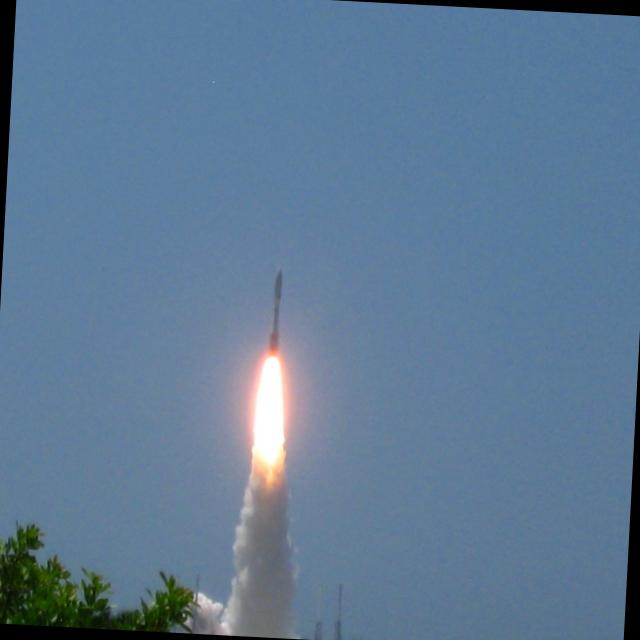rocket: (255, 267, 294, 433)
